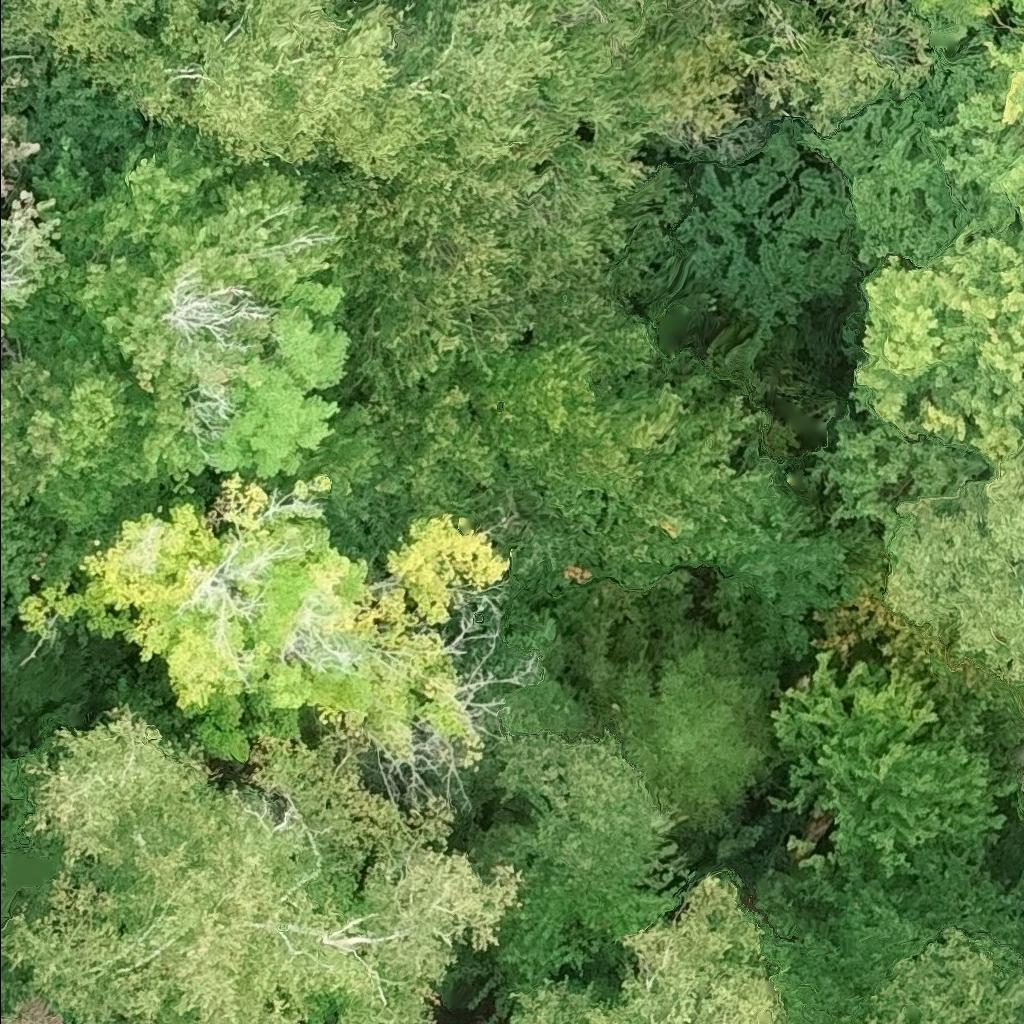crown: (0, 699, 530, 1023), (16, 473, 517, 783), (301, 0, 667, 402), (303, 309, 813, 594), (8, 133, 349, 498), (801, 31, 1023, 466), (770, 644, 1019, 881), (646, 0, 944, 148), (494, 874, 789, 1023), (621, 618, 778, 838), (879, 449, 1023, 683), (205, 276, 355, 490), (0, 332, 147, 538), (848, 926, 1023, 1023), (0, 189, 72, 341), (0, 497, 58, 625), (0, 65, 43, 202), (944, 0, 1023, 16), (356, 0, 378, 5), (1023, 784, 1023, 789)
